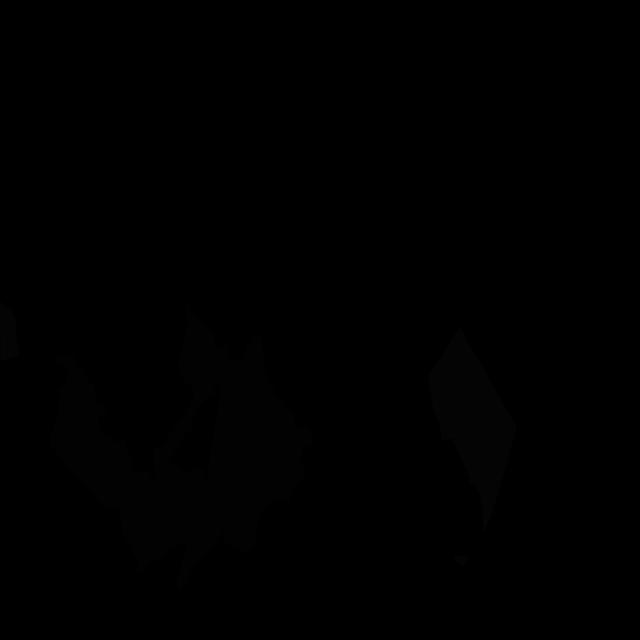cardboard: (50, 354, 158, 549), (204, 333, 290, 555), (131, 412, 233, 590), (177, 302, 229, 418), (284, 409, 312, 504)
soft_plastic: (428, 327, 517, 533), (0, 300, 19, 361), (453, 555, 472, 566)
